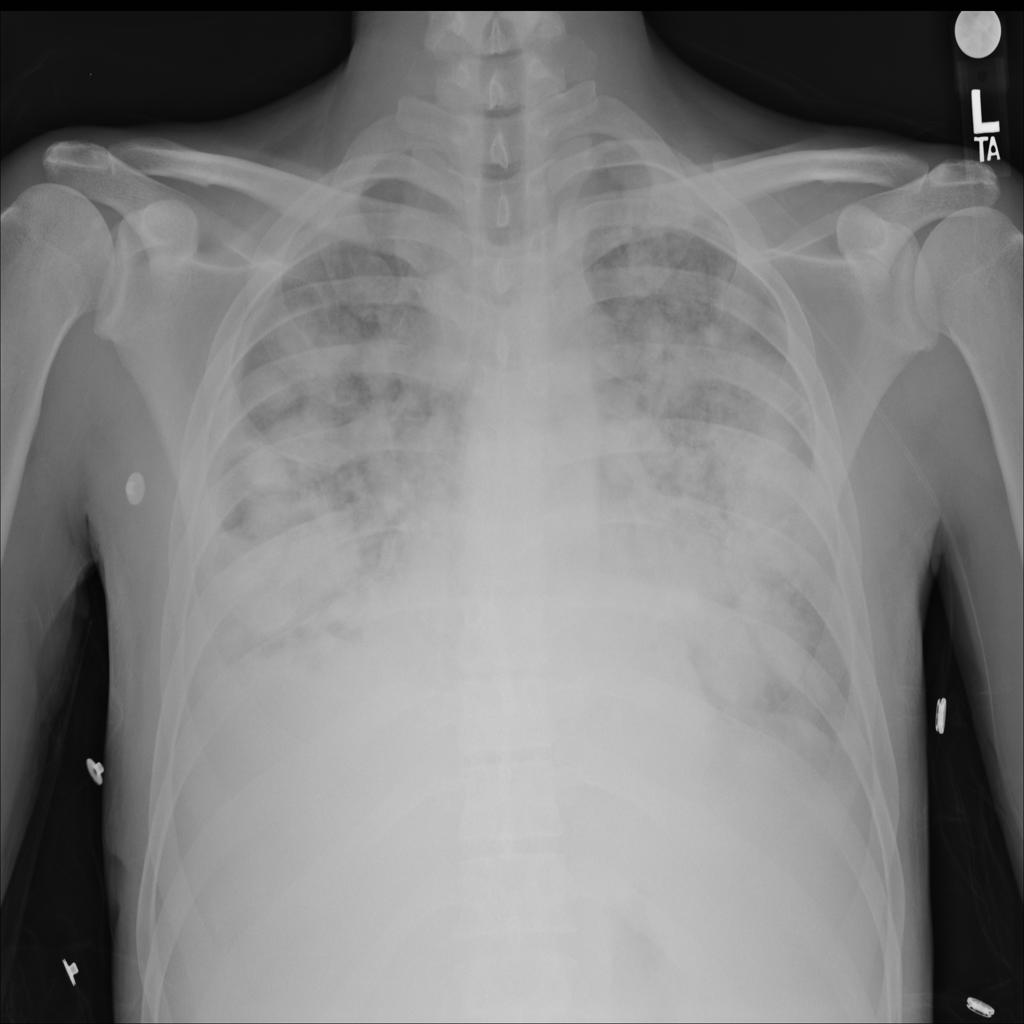nodule: (696, 394, 824, 559), (242, 478, 376, 616), (701, 560, 822, 706), (583, 400, 694, 520), (269, 403, 350, 475), (229, 571, 307, 643), (654, 424, 723, 504), (236, 354, 307, 421), (691, 311, 741, 360)
